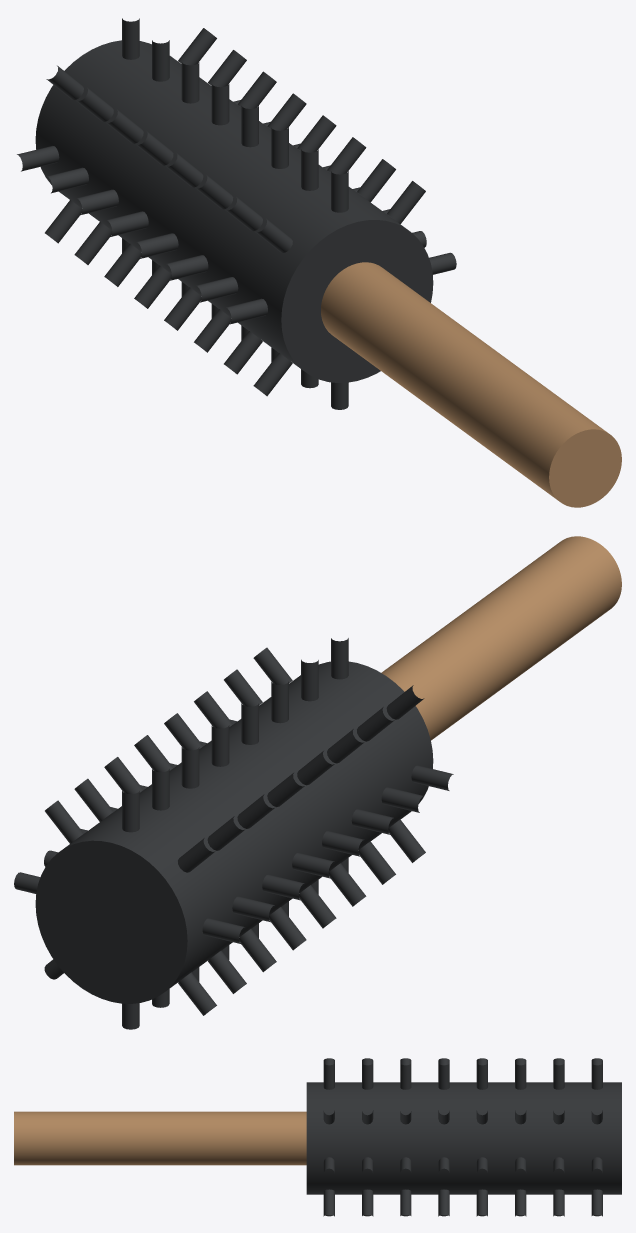
Rendered from barbershop-and-hair-salon-round-brush-ad263f6f__29661.glb.
3 renders of one model, top to bottom at view 1: azimuth 30°, elevation 25°; view 2: azimuth 150°, elevation 25°; view 3: azimuth 270°, elevation 25°, orthographic. The views are drawn at different scales.
Parts seen in each view (by area): view 1: round-brush; view 2: round-brush; view 3: round-brush.
Part boxes in pixels (<box>): round-brush: <box>17,18,621,507</box>; round-brush: <box>14,536,621,1029</box>; round-brush: <box>14,1058,621,1216</box>.
Size of the model in its own units: 0.074 by 0.074 by 0.27.
